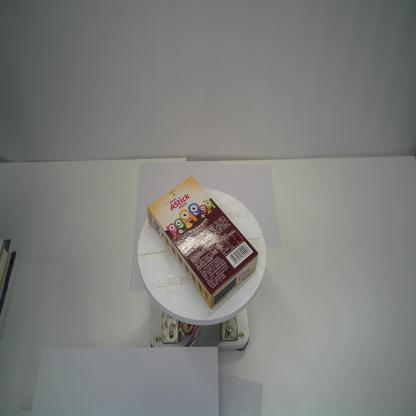Dessert: (146, 174, 260, 312)
